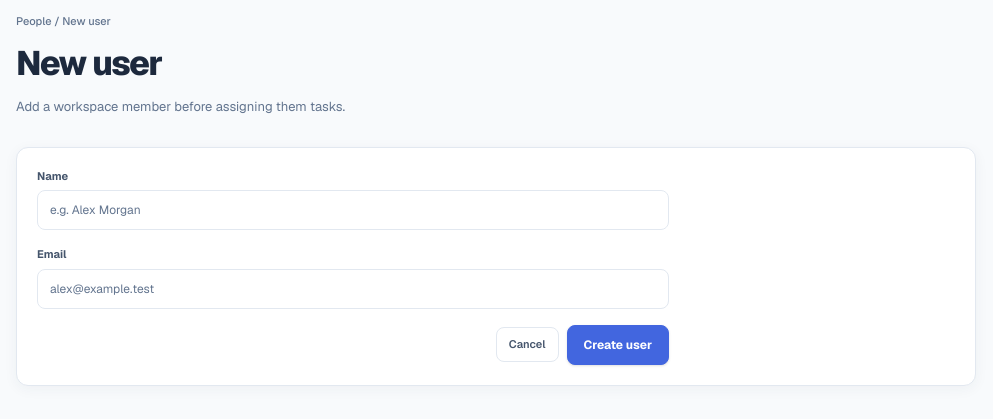
Scenario: UserForm › server-side validation › shows a field error against the offending input
Type "Ada Lovelace" into the field labelled "Name" at (353, 210), box left=37, top=190, right=669, bottom=230
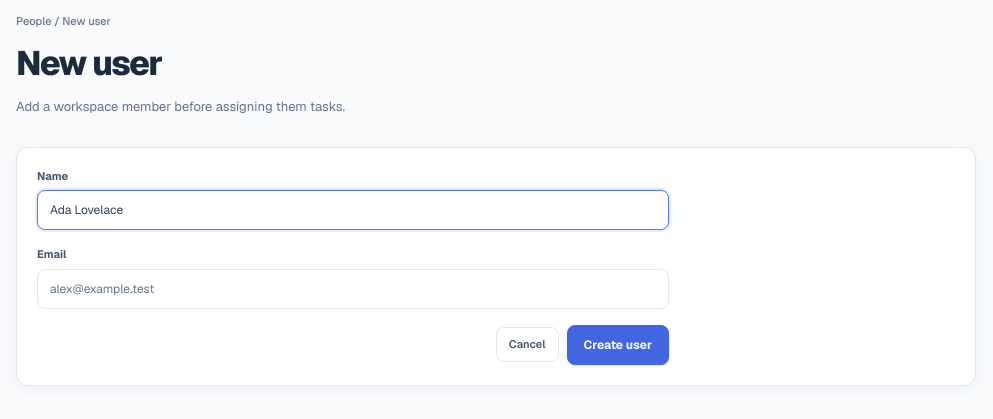
Type "ada@example.test" into the field labelled "Email" at (353, 288), box left=37, top=268, right=669, bottom=308
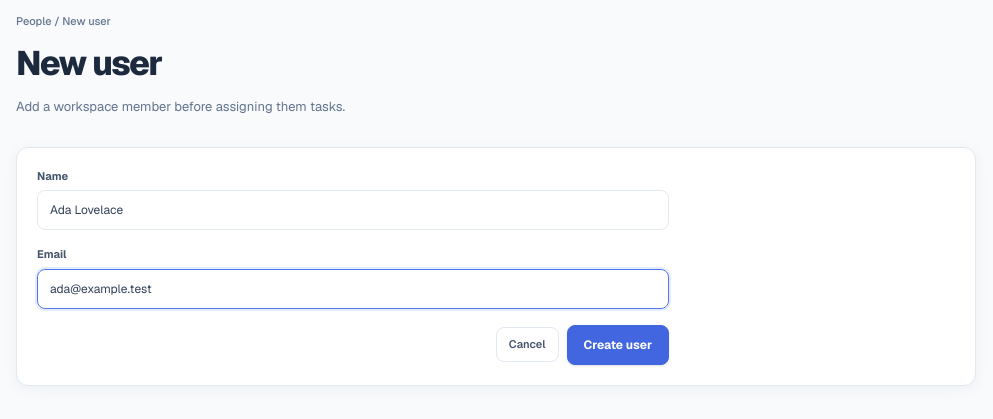
Click the button "Create user" at (618, 344), box left=567, top=324, right=669, bottom=364
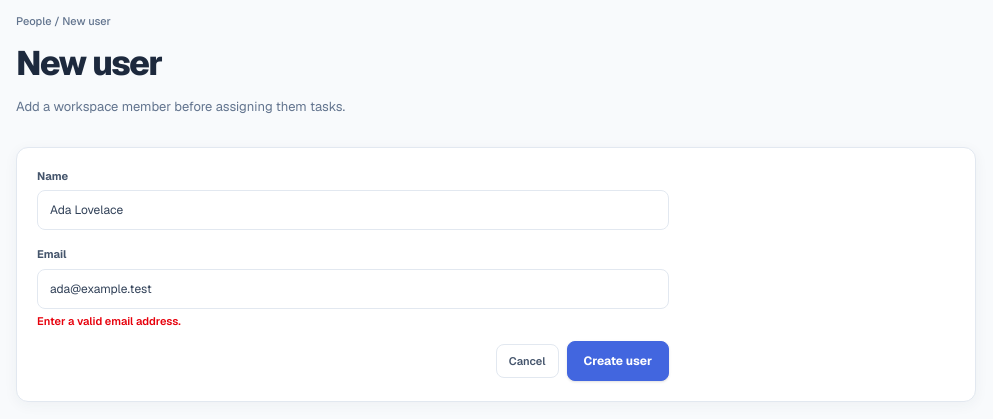
expect the text "Enter a valid email address." is shown: met, box left=37, top=314, right=181, bottom=328
